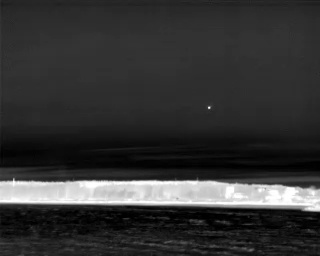HELICOPTER: (205, 103, 214, 113)
